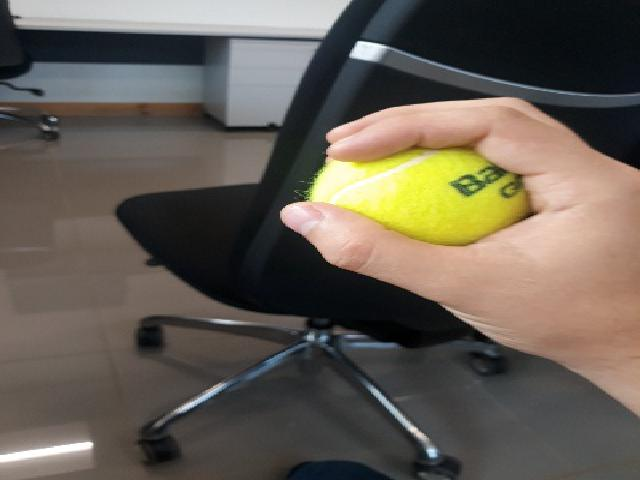Ball: (315, 149, 526, 242)
